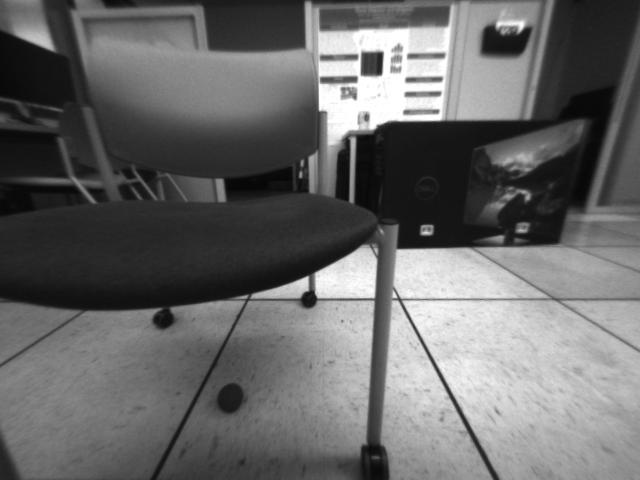dogtoy: (211, 379, 251, 415)
